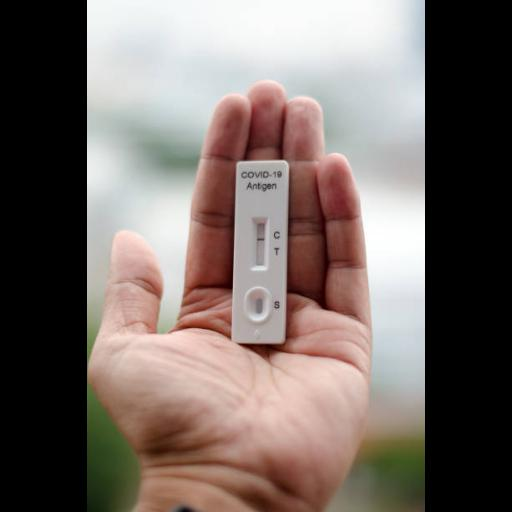Neg: (235, 160, 283, 344)
